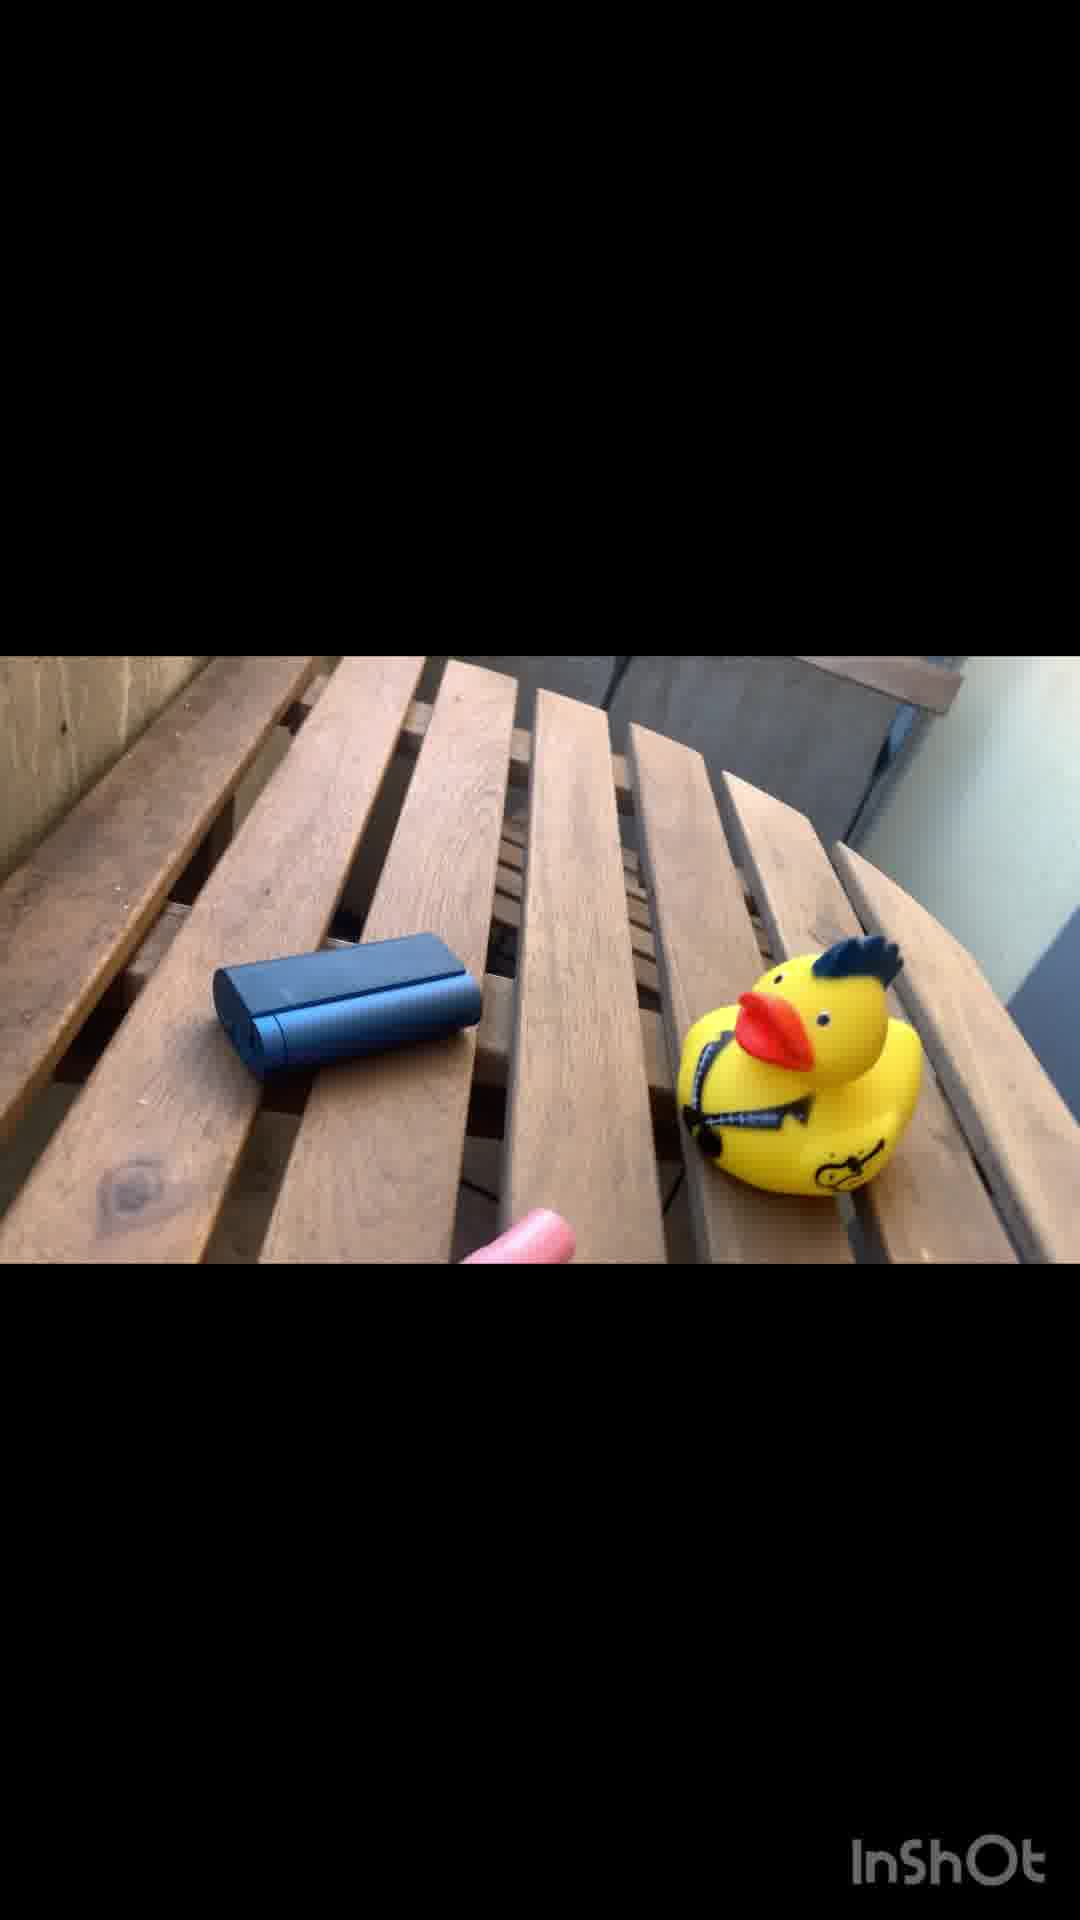duck: (676, 920, 923, 1205)
glo: (215, 928, 492, 1093)
lip balm: (448, 1203, 585, 1267)
